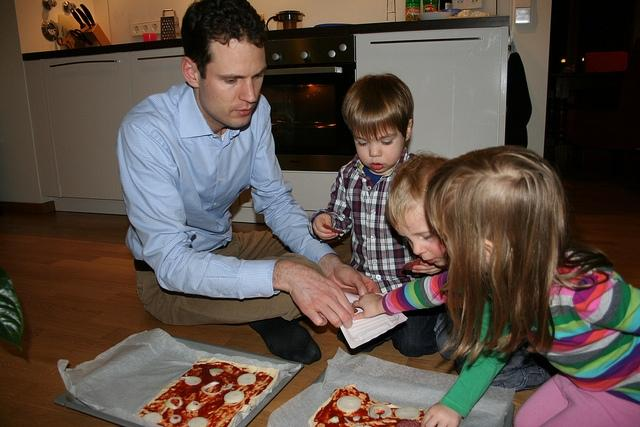onion: (336, 396, 362, 413), (368, 402, 392, 418), (394, 406, 420, 420), (200, 381, 223, 396), (224, 390, 244, 406), (370, 405, 390, 418), (142, 412, 162, 424), (237, 374, 256, 386), (180, 376, 202, 386), (165, 397, 183, 409), (188, 417, 208, 427), (186, 400, 202, 411), (372, 407, 387, 416), (170, 414, 182, 424), (209, 368, 224, 376), (328, 416, 340, 423), (208, 362, 222, 365), (353, 416, 360, 421)
